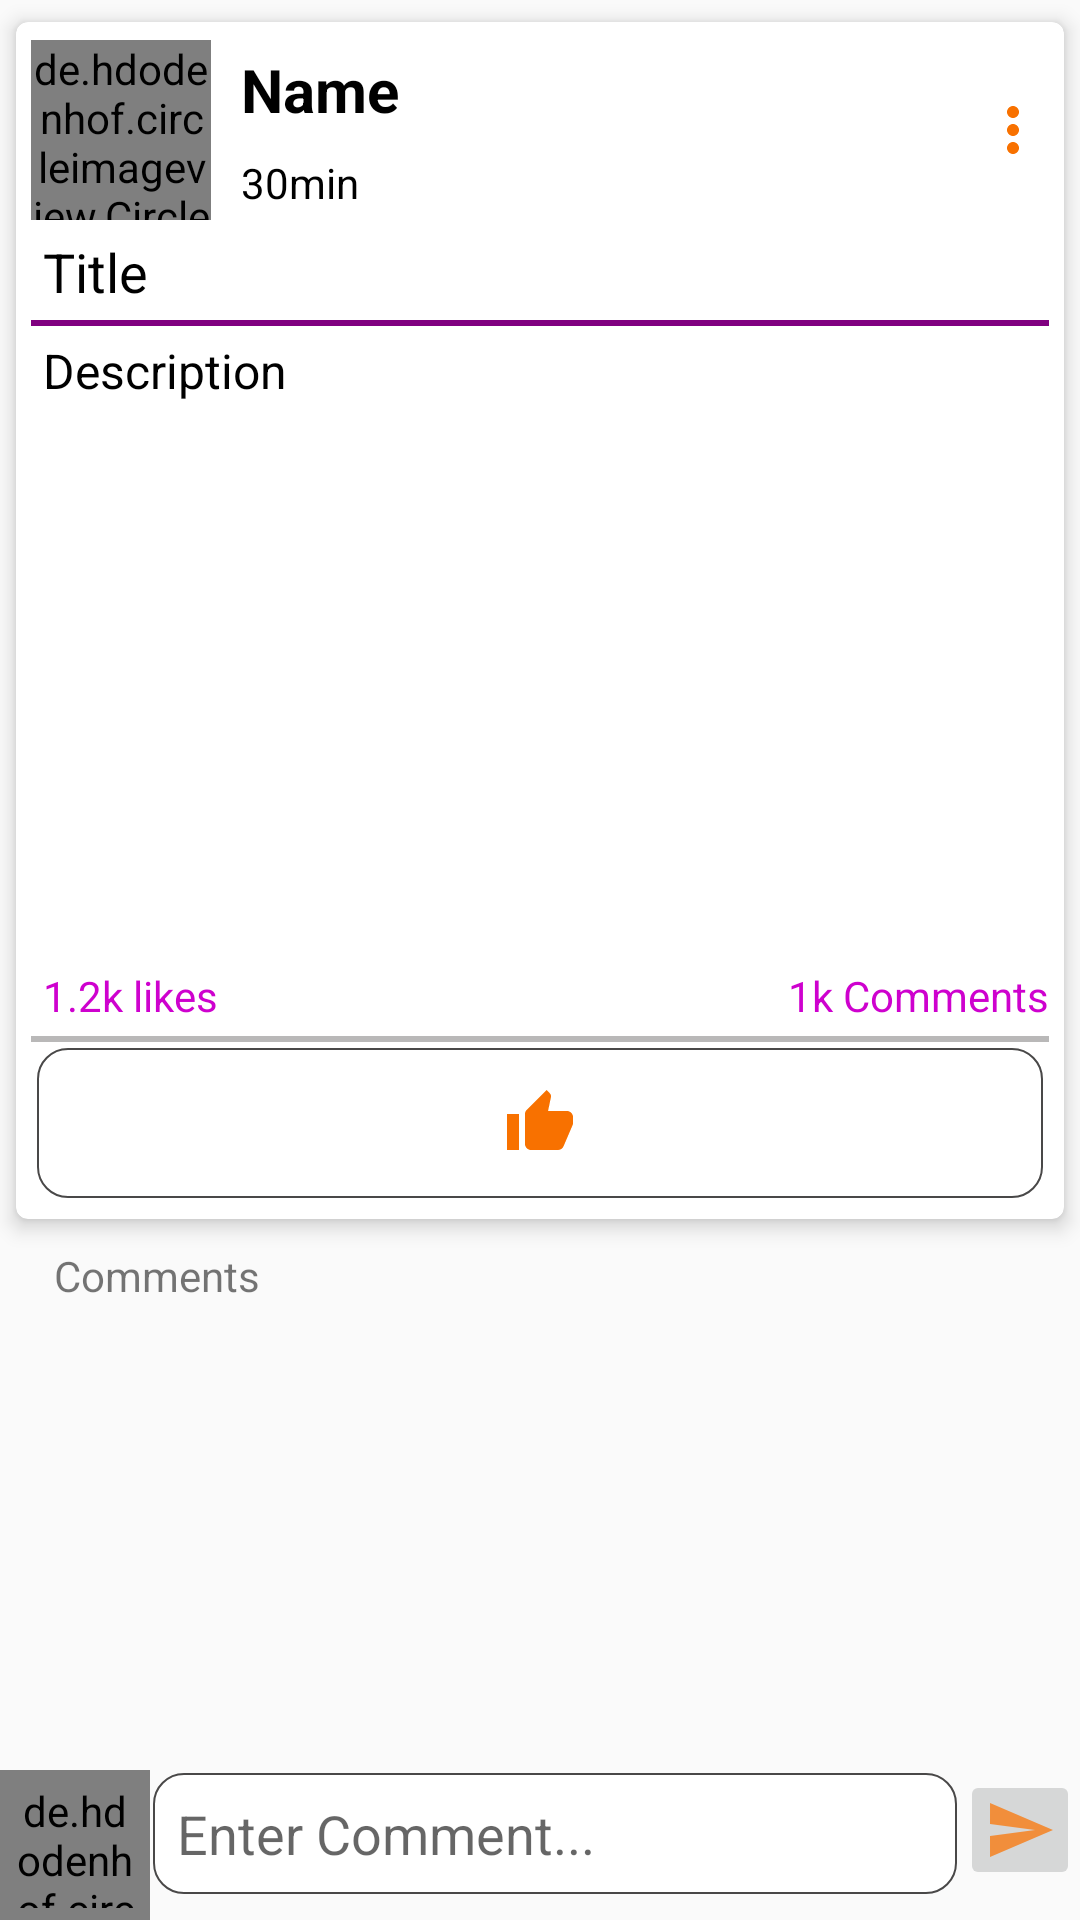

Icon bounding boxes for this 1080 × 1920 phone screenshot, format [x1=x1, y1=y1, x2=x2, y2=y2]:
more vert: [x1=1007, y1=106, x2=1019, y2=154]
send: [x1=972, y1=1788, x2=1068, y2=1872]
